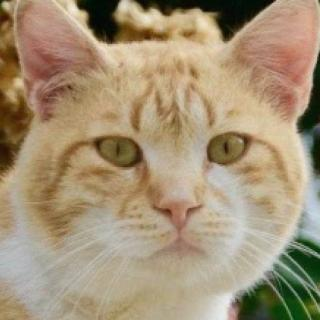cat: (15, 0, 319, 301)
nose: (142, 175, 215, 229)
